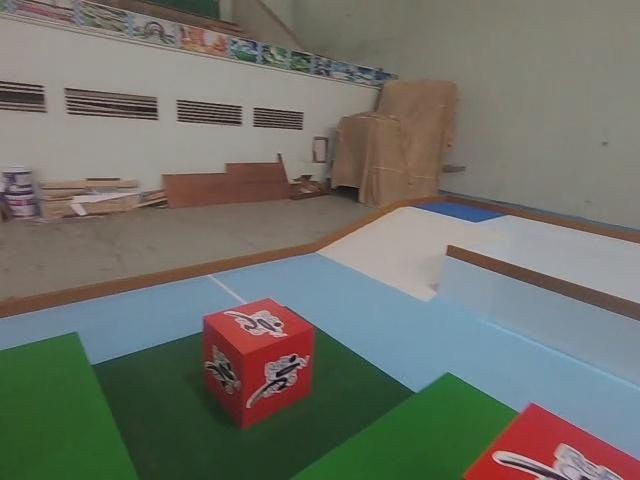R1: (196, 295, 317, 430)
